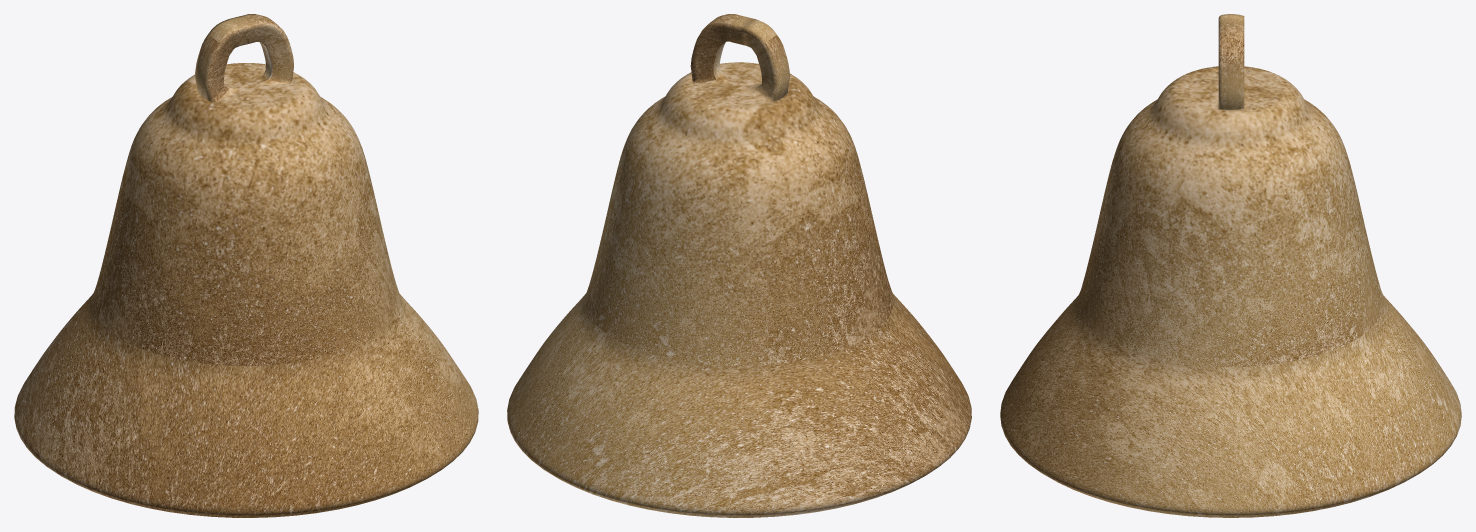
The model's file is Campana.glb.
3 renders of one model, left to right at view 1: azimuth 30°, elevation 25°; view 2: azimuth 150°, elevation 25°; view 3: azimuth 270°, elevation 25°, orthographic.
Parts seen in each view (by area): view 1: Campana; view 2: Campana; view 3: Campana.
Part boxes in pixels (x1,y1,x2,y2): Campana: (14, 14, 478, 517); Campana: (507, 14, 971, 517); Campana: (1000, 14, 1461, 517).
Bounding box in the file's own units: 3.51 × 3.77 × 3.51.
2 materials, 2 textured.
